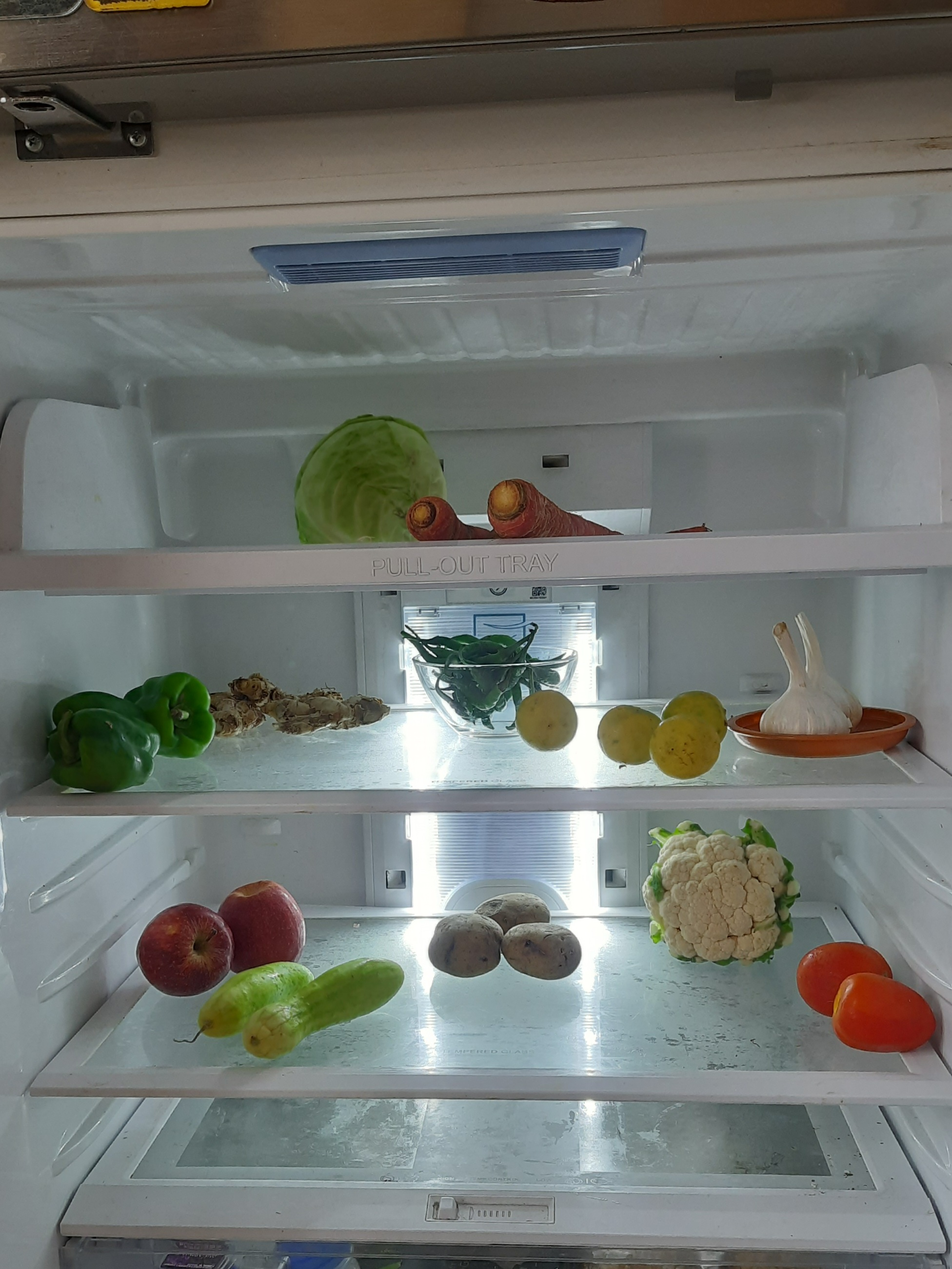apple: (118, 878, 328, 978)
cabbage: (285, 394, 458, 539)
capsicum: (25, 668, 237, 796)
carrots: (394, 472, 722, 559)
cauliflower: (631, 811, 804, 971)
chillies: (394, 613, 575, 719)
cucumber: (199, 953, 406, 1054)
garlic: (747, 610, 867, 742)
ginger: (207, 670, 394, 736)
lemon: (518, 688, 735, 783)
potato: (426, 886, 593, 985)
tomato: (794, 925, 952, 1055)
